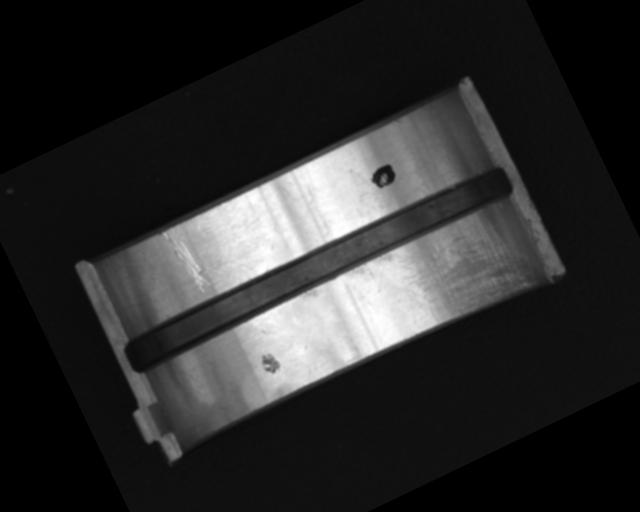blot: (365, 160, 400, 192)
bruise: (254, 347, 285, 379)
gap: (117, 157, 520, 379)
nick: (158, 219, 214, 298)
scratch: (375, 195, 544, 345)
